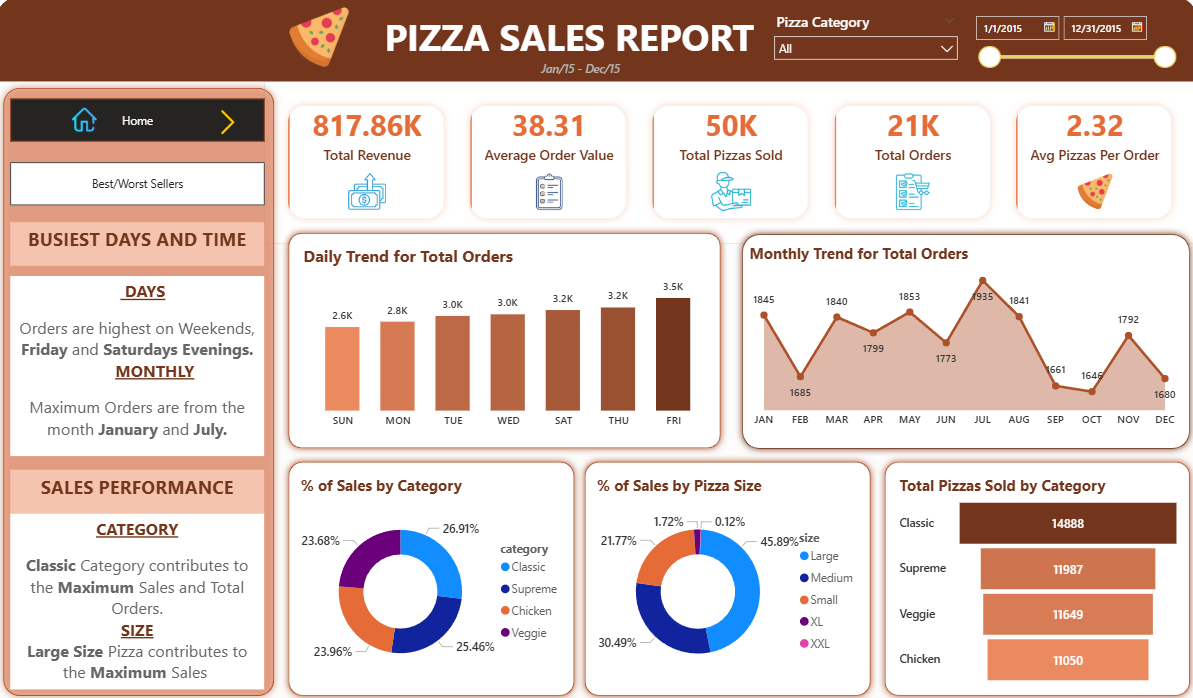

The page's visual inventory and layout, read from the dashboard file:
{"tool":"powerbi","page":{"name":"Home","canvas":[1400,820],"ordinal":0},"visuals":[{"type":"cardVisual","fields":{"Data":["pizzahut order_details.Total Revenue","pizzahut order_details.Average Order Value","pizzahut order_details.Total Pizzas Sold","pizzahut order_details.Total Orders","pizzahut order_details.Avg Pizzas Per Order"]},"box":[318.6,98.6,1081.4,188.6],"z":0},{"type":"shape","box":[8,2,1392,98],"z":1000},{"type":"textbox","box":[444.3,12.9,455.7,70],"z":2000},{"type":"textbox","box":[608.6,70,154.3,28.6],"z":3000},{"type":"shape","box":[338.6,267.1,517.1,265.7],"z":4000},{"type":"columnChart","title":"Daily Trend for Total Orders","fields":{"Category":["pizzahut orders.Order Day"],"Y":["pizzahut order_details.Total Orders"]},"box":[360,288.8,486.2,222.5],"z":5000},{"type":"shape","box":[865,267.5,535,265],"z":6000},{"type":"areaChart","title":"Monthly Trend for Total Orders","fields":{"Category":["pizzahut orders.Order Month"],"Y":["pizzahut order_details.Total Orders"]},"box":[877.5,287.5,508.8,222.5],"z":7000},{"type":"shape","box":[338.8,532.5,347.5,287.5],"z":8000},{"type":"shape","box":[682.5,532.5,347.5,287.5],"z":9000},{"type":"shape","box":[1030,532.5,370,287.5],"z":10000},{"type":"donutChart","title":"% of Sales by Category","fields":{"Category":["pizzahut pizza_types.category"],"Y":["pizzahut order_details.Total Revenue"]},"box":[356.2,555,316.2,248.8],"z":11000},{"type":"donutChart","title":"% of Sales by Pizza Size","fields":{"Y":["pizzahut order_details.Total Revenue"],"Category":["pizzahut pizzas.size"]},"box":[700,555,316.2,248.8],"z":12000},{"type":"funnel","title":"Total Pizzas Sold by Category","fields":{"Category":["pizzahut pizza_types.category"],"Y":["pizzahut order_details.Total Pizzas Sold"]},"box":[1050,555,336.2,248.8],"z":13000},{"type":"shape","box":[9,99,330,721],"z":14000},{"type":"textbox","box":[24.3,262.9,294.3,50],"z":15000},{"type":"textbox","box":[24.3,324.3,294.3,208.6],"z":16000},{"type":"textbox","box":[24.3,550,294.3,50],"z":17000},{"type":"textbox","box":[24.3,600,294.3,204.3],"z":18000},{"type":"slicer","fields":{"Values":["pizzahut pizza_types.category"]},"box":[900,12.9,232.9,64.3],"z":19000},{"type":"slicer","fields":{"Values":["pizzahut orders.date"]},"box":[1131.4,12.9,252.9,72.9],"z":20000},{"type":"pageNavigator","box":[24,119,295,50],"z":21000},{"type":"pageNavigator","box":[24,193,295,50],"z":22000},{"type":"image","box":[254,132,46,29],"z":23000},{"type":"image","box":[76,129,70,29],"z":24000},{"type":"image","box":[320,12,124,72],"z":24001}]}

Visuals, with their boxes in screenshot pixels (x1, y1, x2, y2), scaled from the page's 1400x820 canvas onto the 1193x698 screenshot:
cardVisual - pizzahut order_details.Total Revenue x pizzahut order_details.Average Order Value: [left=271, top=84, right=1192, bottom=244]
shape: [left=7, top=2, right=1192, bottom=85]
textbox: [left=379, top=11, right=767, bottom=71]
textbox: [left=519, top=60, right=650, bottom=84]
shape: [left=289, top=227, right=729, bottom=454]
"Daily Trend for Total Orders" columnChart: [left=307, top=246, right=721, bottom=435]
shape: [left=737, top=228, right=1192, bottom=453]
"Monthly Trend for Total Orders" areaChart: [left=748, top=245, right=1181, bottom=434]
shape: [left=289, top=453, right=585, bottom=697]
shape: [left=582, top=453, right=878, bottom=697]
shape: [left=878, top=453, right=1192, bottom=697]
"% of Sales by Category" donutChart: [left=304, top=472, right=573, bottom=684]
"% of Sales by Pizza Size" donutChart: [left=596, top=472, right=866, bottom=684]
"Total Pizzas Sold by Category" funnel: [left=895, top=472, right=1181, bottom=684]
shape: [left=8, top=84, right=289, bottom=697]
textbox: [left=21, top=224, right=271, bottom=266]
textbox: [left=21, top=276, right=271, bottom=454]
textbox: [left=21, top=468, right=271, bottom=511]
textbox: [left=21, top=511, right=271, bottom=685]
slicer - pizzahut pizza_types.category: [left=767, top=11, right=965, bottom=66]
slicer - pizzahut orders.date: [left=964, top=11, right=1180, bottom=73]
pageNavigator: [left=20, top=101, right=272, bottom=144]
pageNavigator: [left=20, top=164, right=272, bottom=207]
image: [left=216, top=112, right=256, bottom=137]
image: [left=65, top=110, right=124, bottom=134]
image: [left=273, top=10, right=378, bottom=72]
